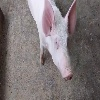heo: (38, 1, 80, 81)
